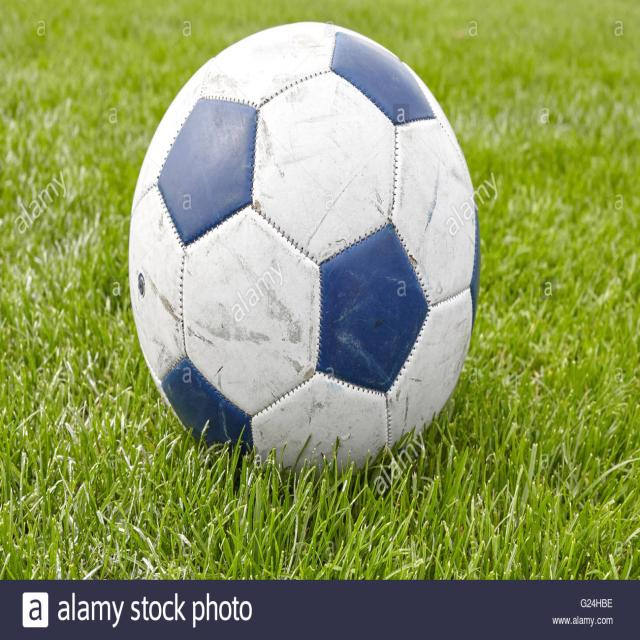soccer ball: (128, 22, 481, 484)
